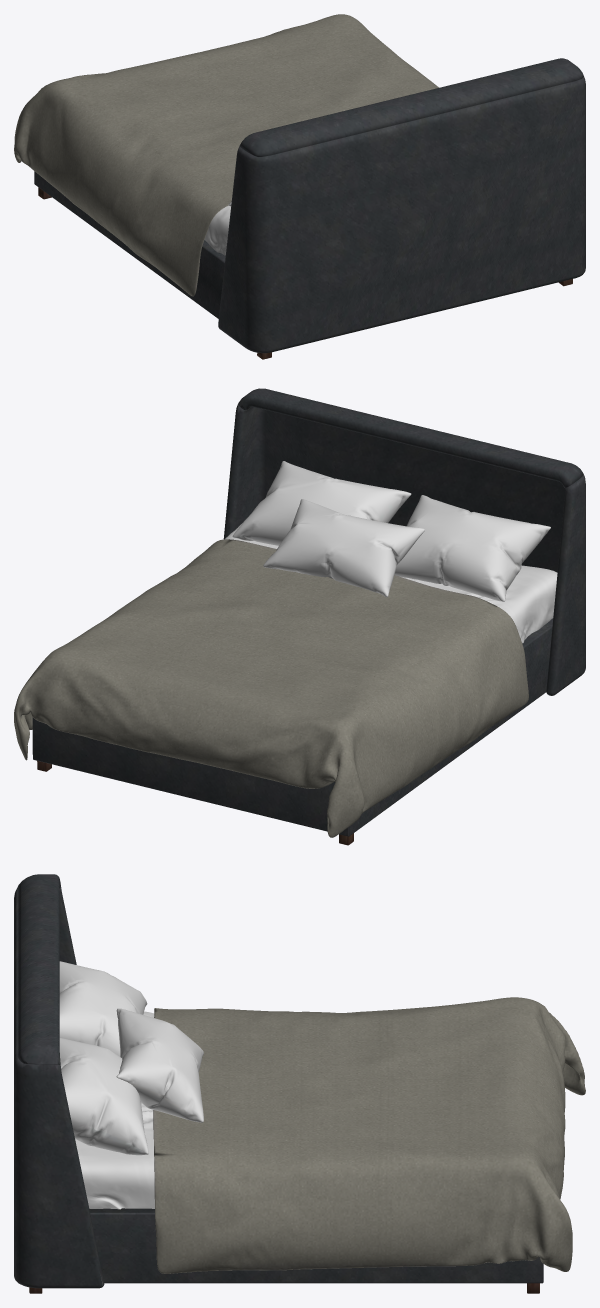
The picture shows the model from 3 angles, top to bottom: view 1: azimuth 30°, elevation 25°; view 2: azimuth 150°, elevation 25°; view 3: azimuth 270°, elevation 25°; orthographic projection. The views are drawn at different scales.
Parts seen in each view (by area): view 1: Plane.001_Material_0; view 2: Plane.001_Material_0; view 3: Plane.001_Material_0.
Part boxes in pixels (<box>): Plane.001_Material_0: <box>14,14,585,359</box>; Plane.001_Material_0: <box>14,388,585,845</box>; Plane.001_Material_0: <box>14,874,585,1293</box>.
Bounding box in the file's own units: 1.77 × 1.06 × 2.21.
Materials: 1 (1 with a texture image).
